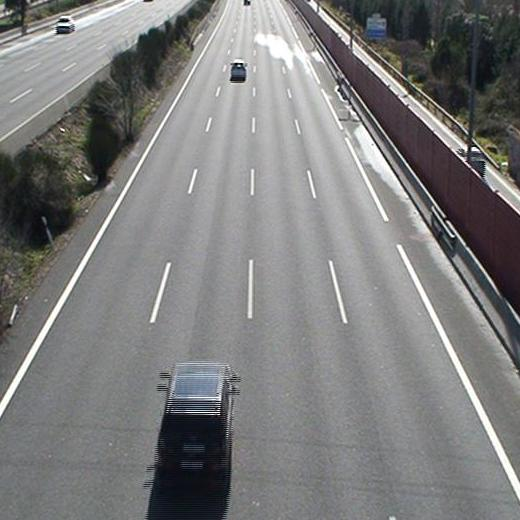car: (156, 362, 233, 479), (229, 60, 247, 81)
